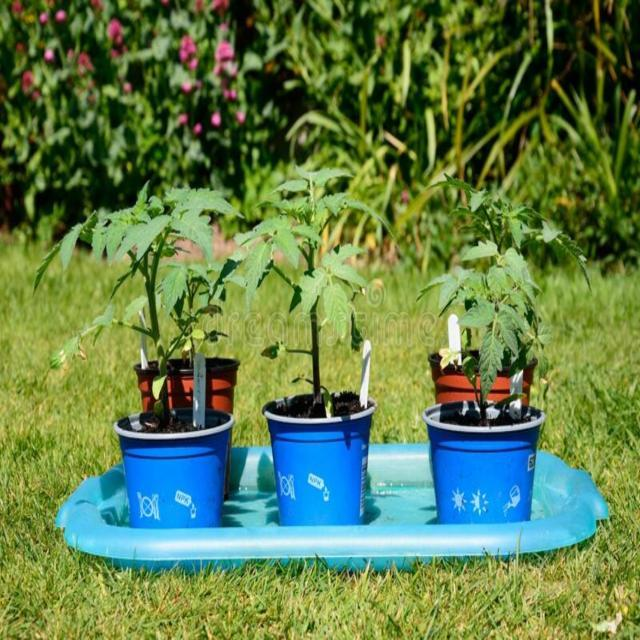plant: (58, 182, 237, 418), (420, 176, 591, 412), (238, 166, 380, 404), (295, 208, 297, 211)
